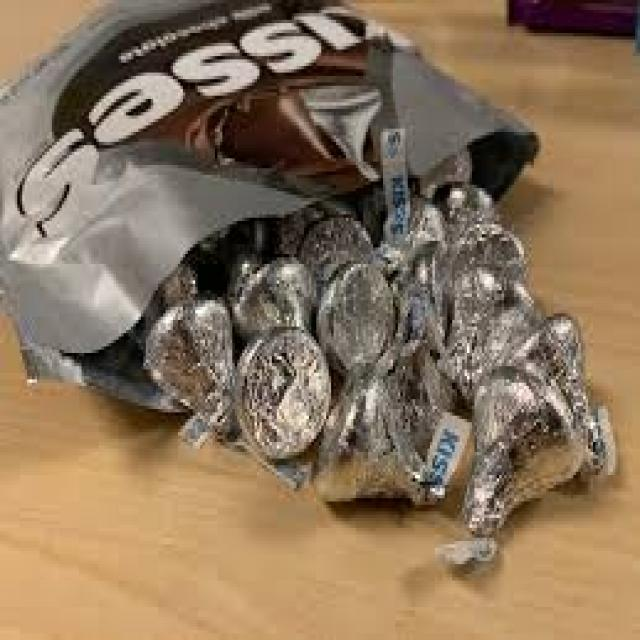kisses: (451, 374, 584, 554), (506, 316, 618, 487), (322, 354, 438, 515), (143, 298, 239, 454), (443, 270, 550, 389), (240, 326, 328, 469), (234, 258, 312, 356), (326, 266, 389, 368)
